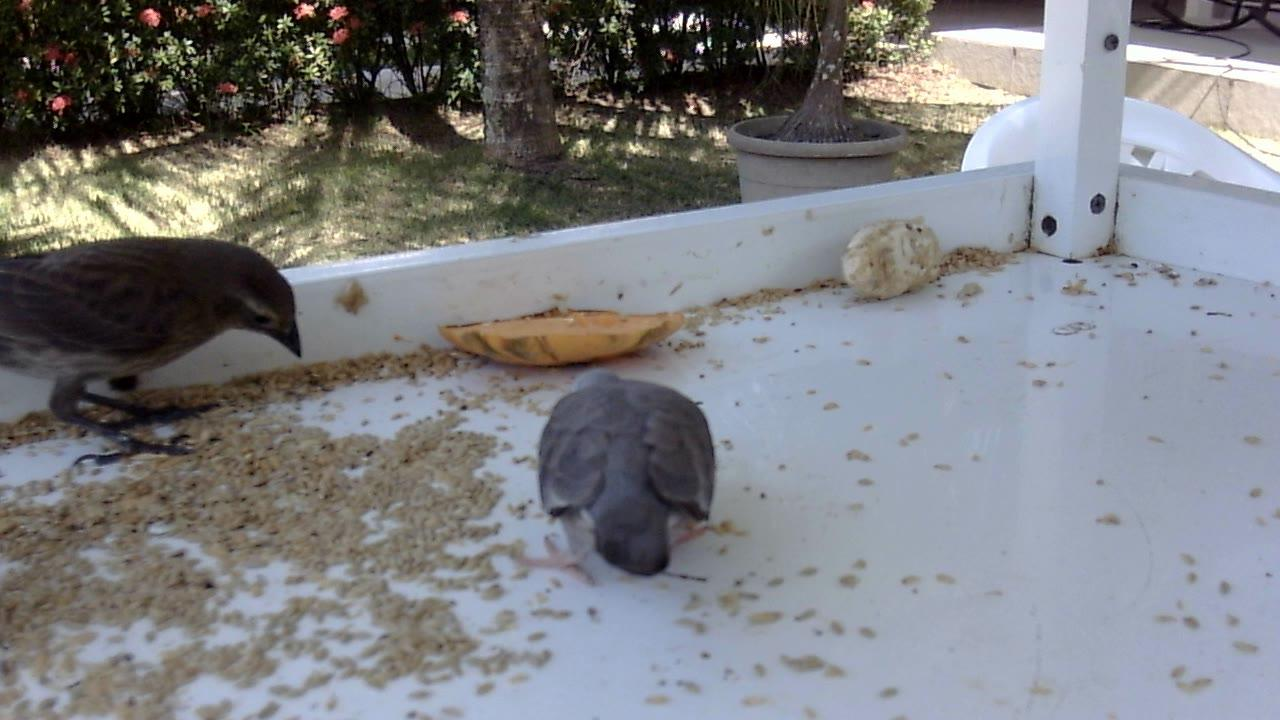chupim: (1, 234, 307, 471)
rolinha: (509, 364, 720, 590)
